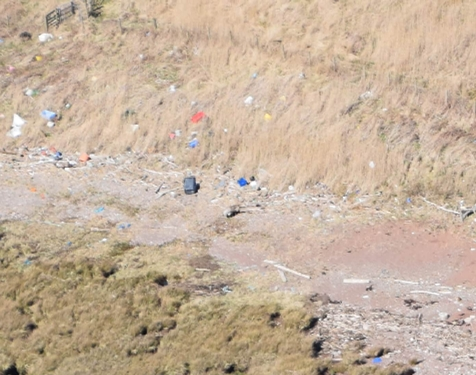scattered_barrel: (163, 88, 289, 197), (2, 26, 95, 169), (17, 181, 137, 273)
straight_bar: (264, 255, 321, 291), (332, 264, 384, 297)
